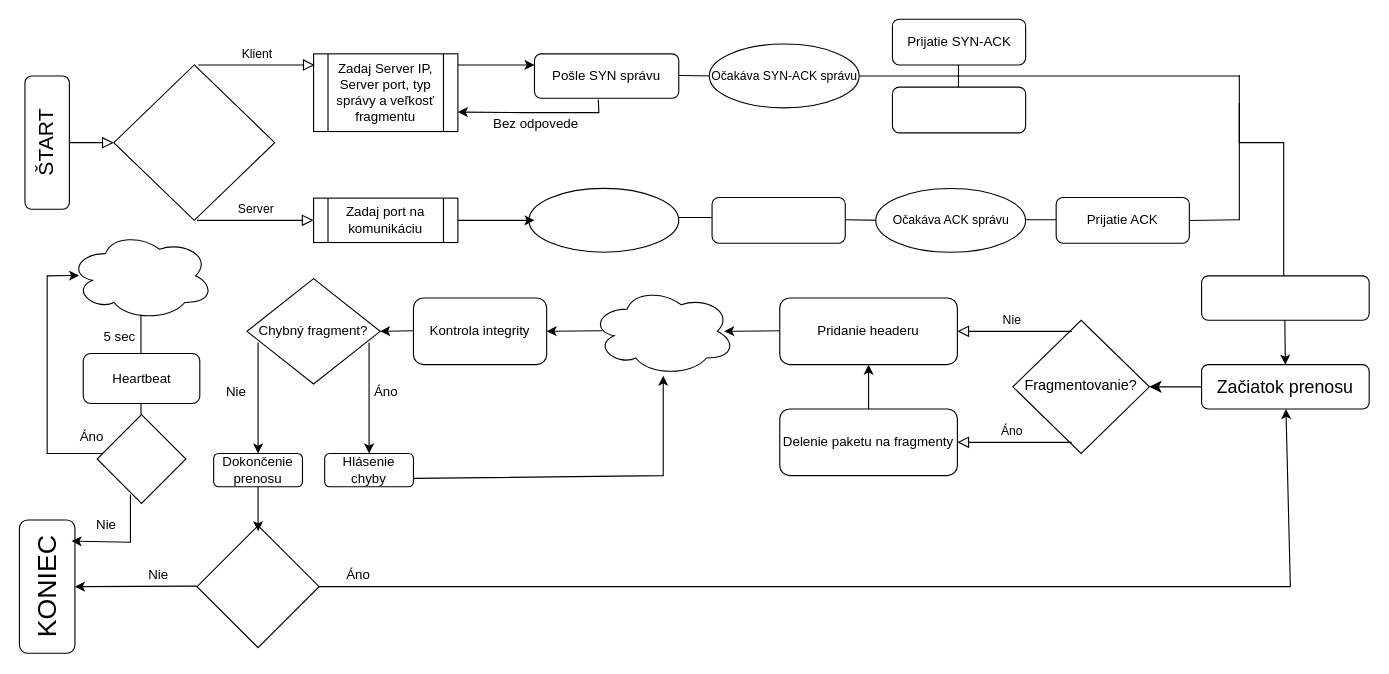
Image size: 1389x674. Some labels were removed from this diagram. Each missing label, with the centre of its shape:
Keep-Alive: [141,275]
Odpoveď do 3 heartbeatov?: [141,458]
Očakáva SYN správu: [603,219]
Posielanie fragmentov: [662,331]
Pošle ACK: [958,109]
Prijatie SYN Pošle SYN-ACK: [778,219]
Spojenie kompletné: [1284,297]
Výber roly: [194,142]
Ďalší prenos?: [257,586]
